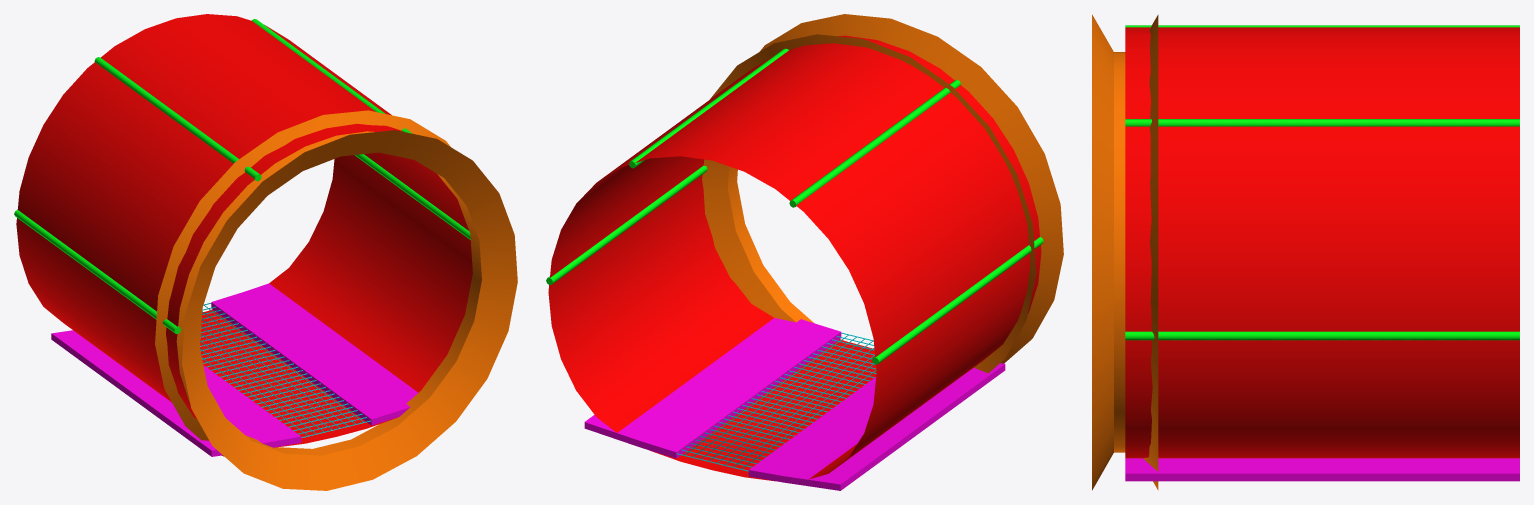
File: 1_2_INVERTIDO.fbx
3 renders of one model, left to right at view 1: azimuth 30°, elevation 25°; view 2: azimuth 150°, elevation 25°; view 3: azimuth 270°, elevation 25°, orthographic. The views are drawn at different scales.
Visible parts, largest first — view 1: Tube001; view 2: Tube001; view 3: Tube001.
Part boxes in pixels (x1,y1,x2,y2): Tube001: (14,14,517,490); Tube001: (546,14,1063,490); Tube001: (1092,14,1519,490).
Bounding box in the file's own units: 284 × 284 × 255.
